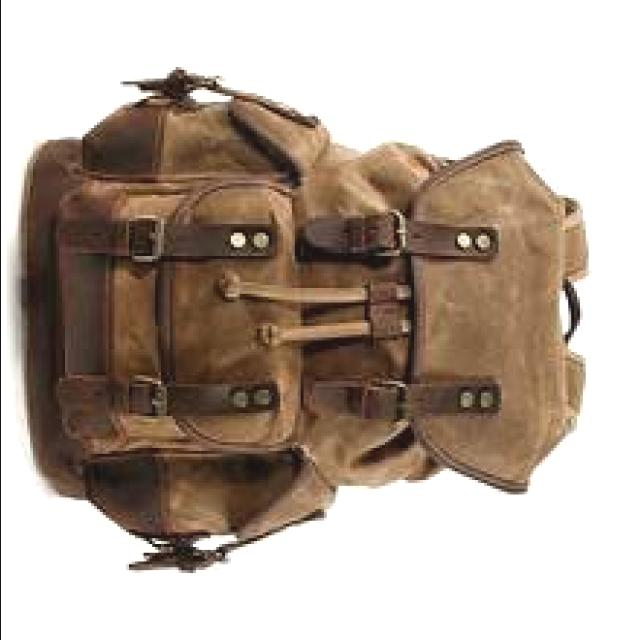backpack: (24, 68, 592, 574)
